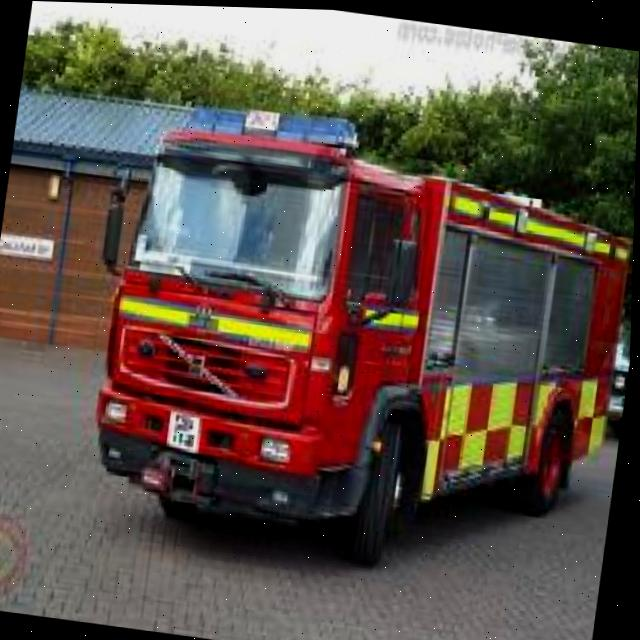emergency: (65, 81, 638, 593)
